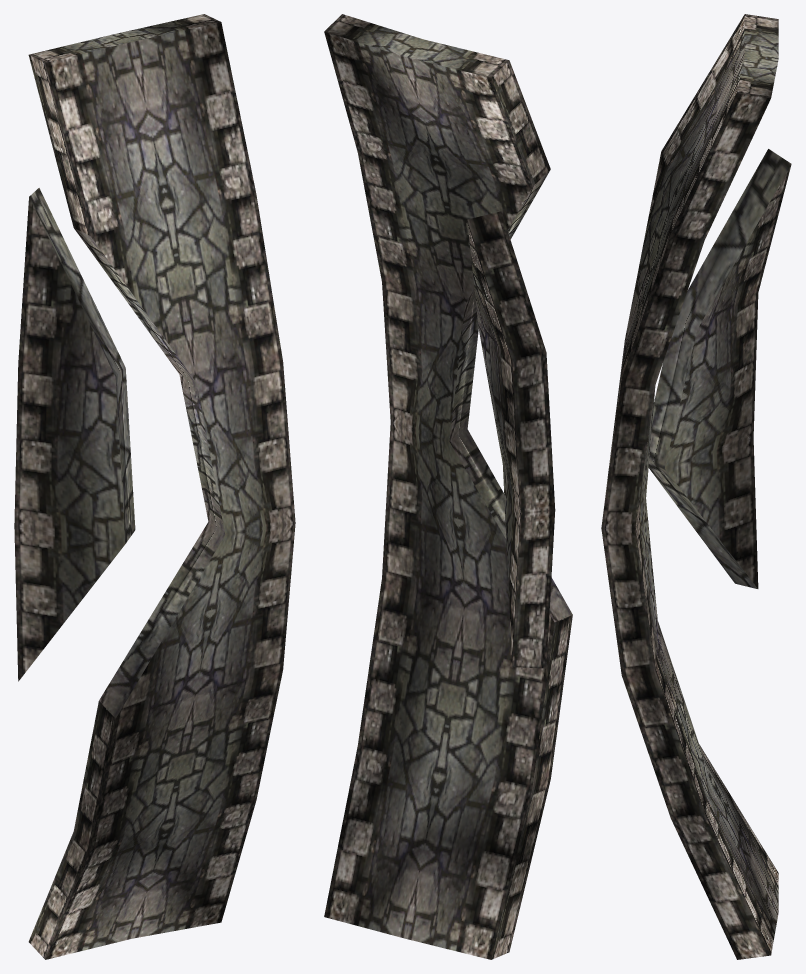
Rendered from bridge-destr_02.obj.
3 views of the same model, side by side, from view 1: azimuth 30°, elevation 25°; view 2: azimuth 150°, elevation 25°; view 3: azimuth 270°, elevation 25° (orthographic). The views are drawn at different scales.
Parts seen in each view (by area): view 1: (null); view 2: (null); view 3: (null).
Part boxes in pixels (x1,y1,x2,y2): (null): (14,14,295,959); (null): (324,14,572,959); (null): (601,14,791,959).
Bounding box in the file's own units: 2.41 × 9.64 × 1.92.
